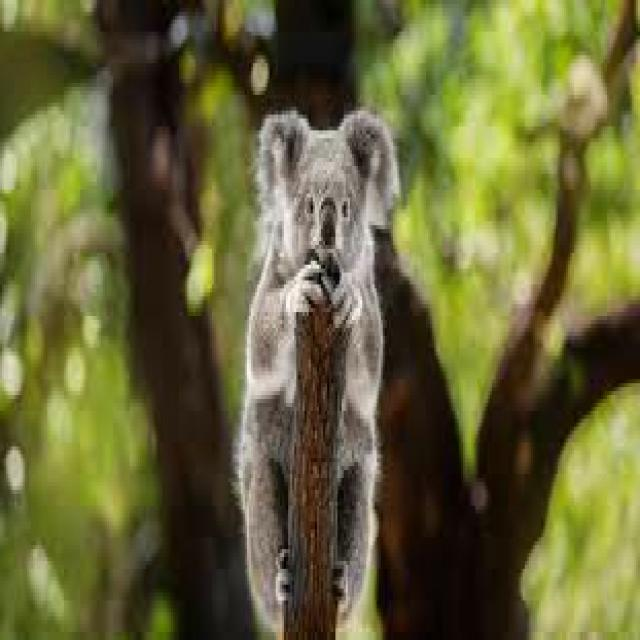koala: (237, 111, 399, 628)
